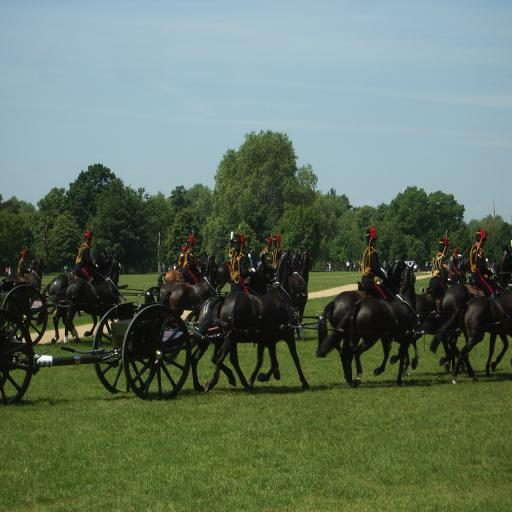horse: (315, 242, 512, 390), (143, 246, 314, 392), (34, 246, 114, 345), (62, 252, 122, 342), (1, 252, 46, 330)
